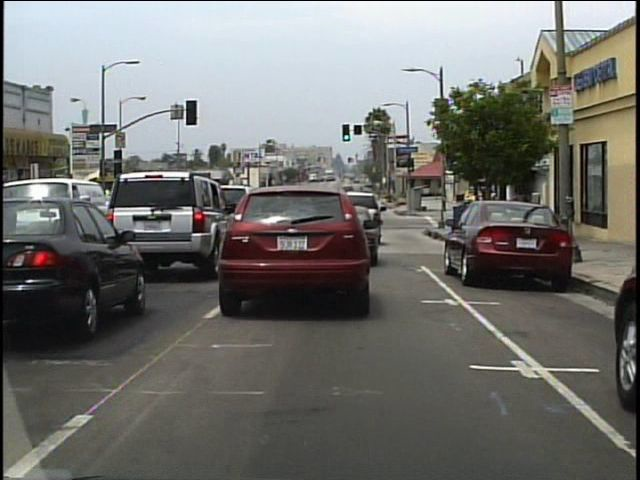person: (466, 195, 479, 241)
